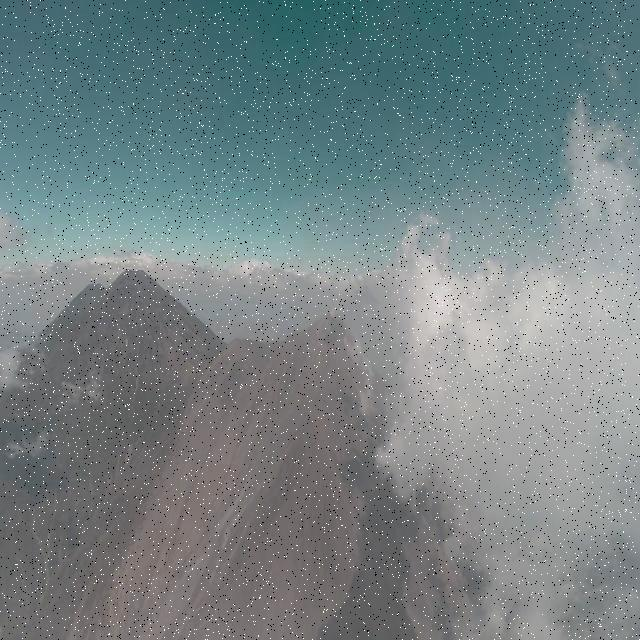Summit: (281, 310, 382, 384)
